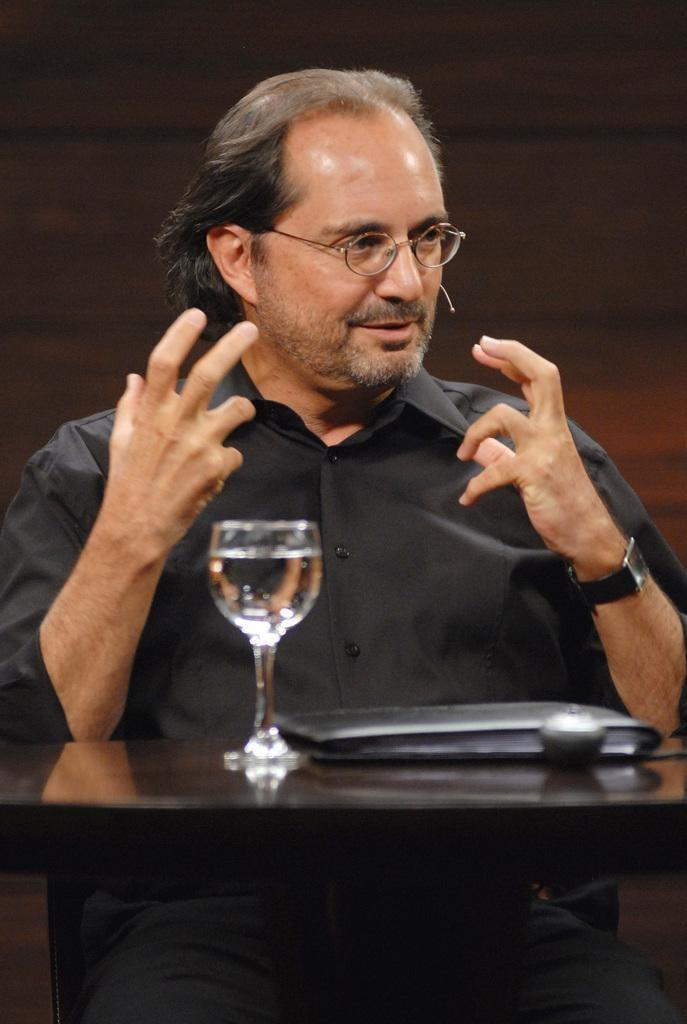glass-wine: (204, 517, 324, 764)
